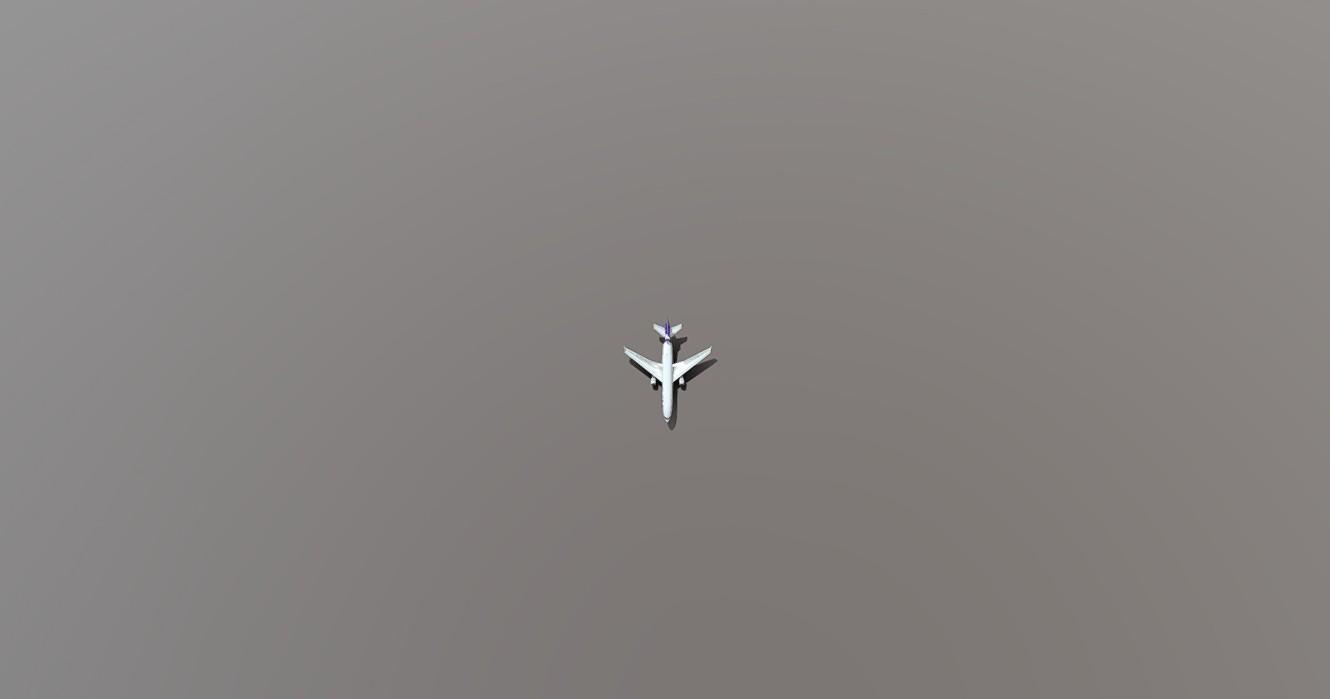Airplane: (622, 318, 717, 422)
